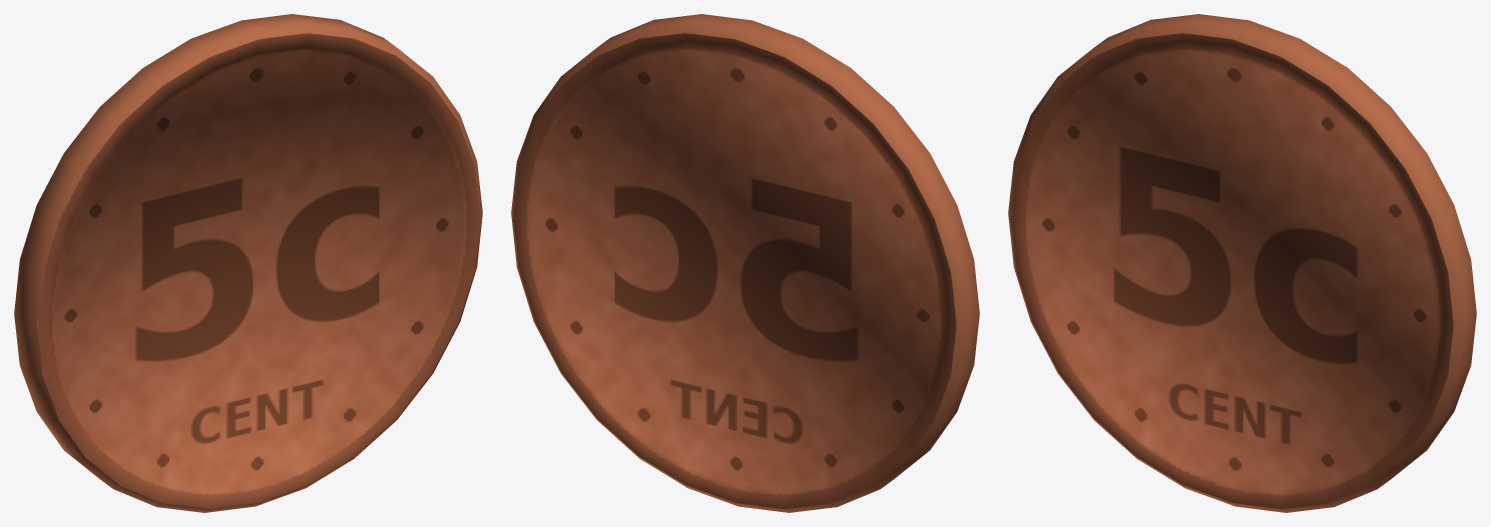
File: Coin_5Cent.obj
3 renders of one model, left to right at view 1: azimuth 30°, elevation 25°; view 2: azimuth 150°, elevation 25°; view 3: azimuth 330°, elevation 25°, orthographic.
Bounding box in the file's own units: 0.0213 × 0.0213 × 0.00167.
Materials: 2 (1 with a texture image).
